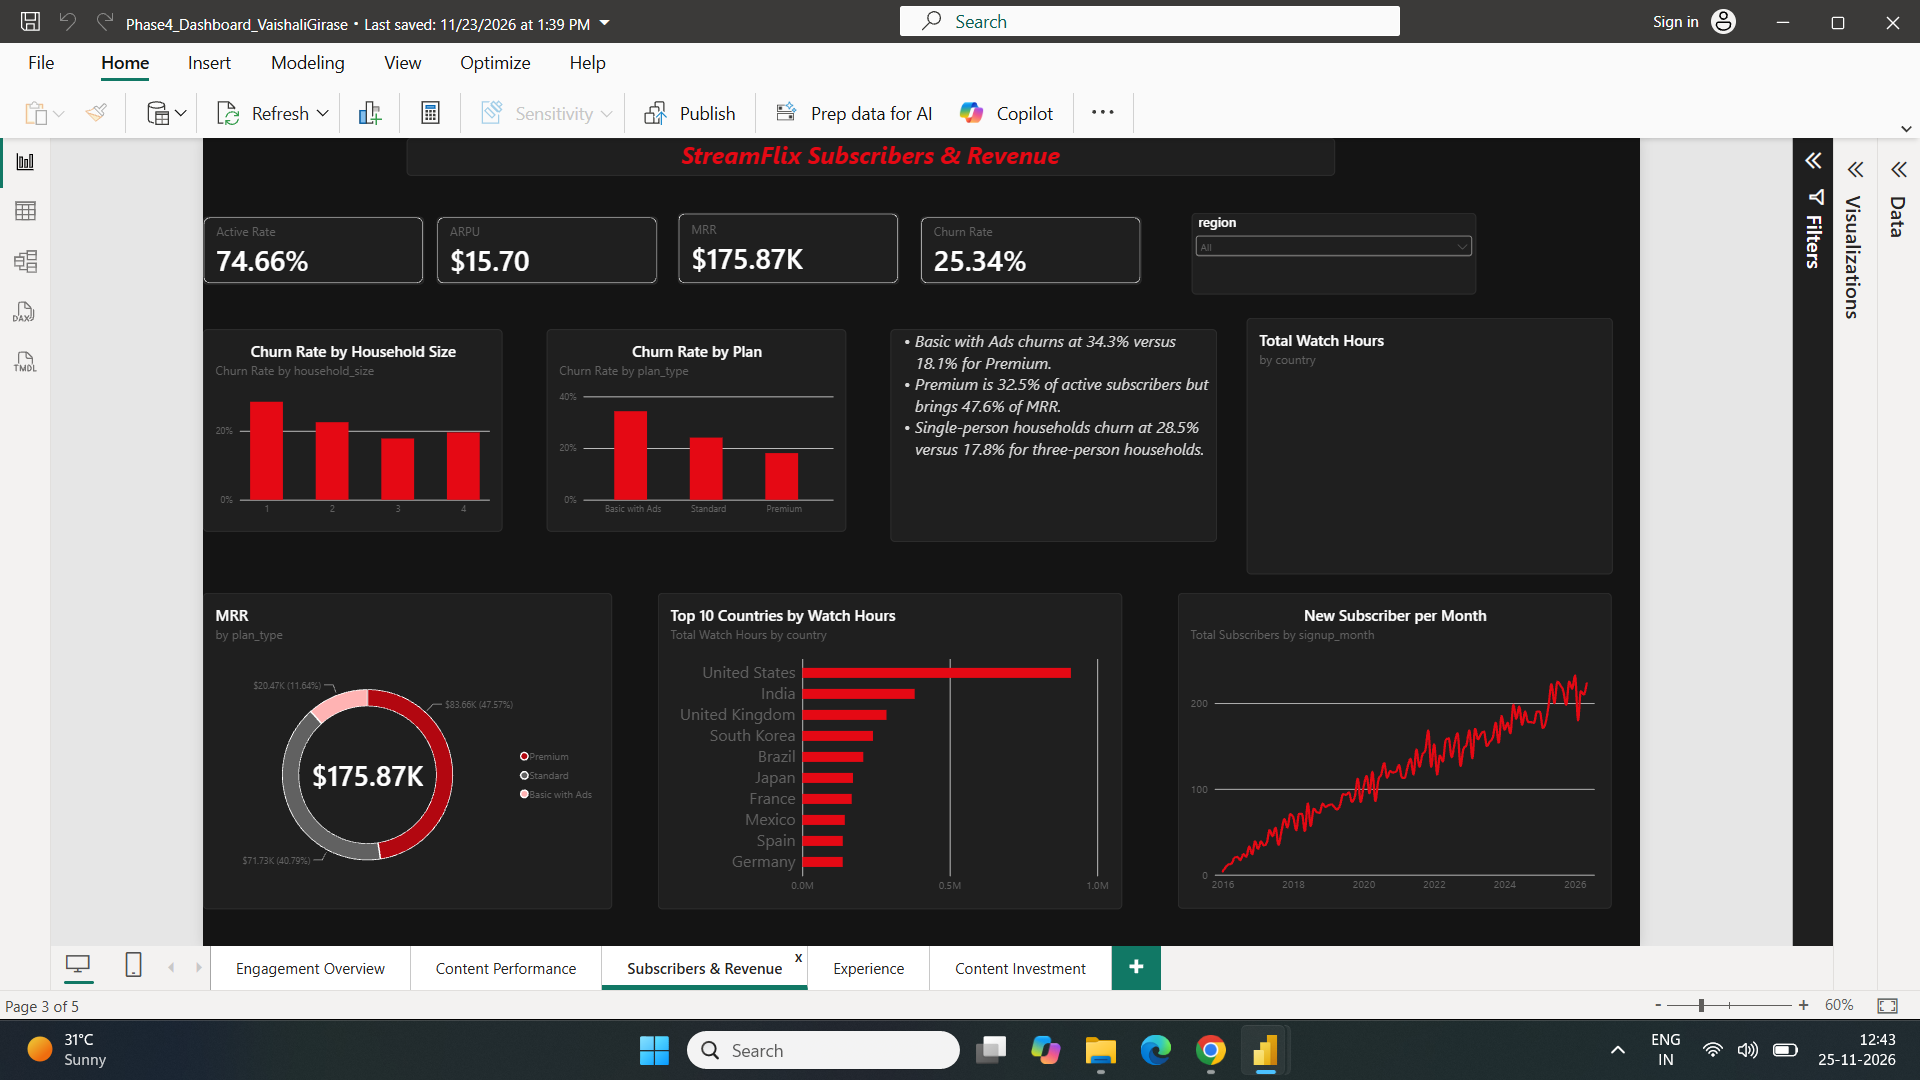

Layout of this report page (visuals, bound fields, positions):
{"tool":"powerbi","page":{"name":"Subscribers & Revenue","canvas":[1920,1080],"ordinal":2},"visuals":[{"type":"cardVisual","fields":{"Data":["fact_watch.Active Rate"]},"box":[0,105,295,90],"z":0},{"type":"cardVisual","fields":{"Data":["fact_watch.Churn Rate"]},"box":[958.8,105,295,90],"z":1000},{"type":"cardVisual","fields":{"Data":["fact_watch.MRR"]},"box":[635,100,295,95],"z":2000},{"type":"cardVisual","fields":{"Data":["fact_watch.ARPU"]},"box":[312.5,105,295,90],"z":3000},{"type":"clusteredColumnChart","title":"Churn Rate by Plan","fields":{"Category":["dim_subscribers.plan_type"],"Y":["fact_watch.Churn Rate"]},"box":[459.7,255.2,400,270],"z":4000},{"type":"donutChart","fields":{"Category":["dim_subscribers.plan_type"],"Y":["fact_watch.MRR"]},"box":[0,608,546,422],"z":5000},{"type":"columnChart","title":"Churn Rate by Household Size","fields":{"Category":["dim_subscribers.household_size"],"Y":["fact_watch.Churn Rate"]},"box":[0,255.2,400,270],"z":6000},{"type":"textbox","box":[272,0,1240,50],"z":7000},{"type":"clusteredBarChart","title":"Top 10 Countries by Watch Hours","fields":{"Category":["dim_subscribers.country"],"Y":["fact_watch.Total Watch Hours"]},"box":[608,608,620,422],"z":8000},{"type":"textbox","box":[918,256,436,284],"z":9000},{"type":"slicer","fields":{"Values":["dim_subscribers.region"]},"box":[1321.1,99.5,380,108.8],"z":10000},{"type":"lineChart","title":"New Subscriber per Month","fields":{"Category":["dim_subscribers.signup_month"],"Y":["fact_watch.Total Subscribers"]},"box":[1303,608,579.1,421.7],"z":11000},{"type":"map","fields":{"Category":["dim_subscribers.country"],"Size":["fact_watch.Total Watch Hours"]},"box":[1393.4,240.7,488.6,342],"z":12000}]}

Visuals, with their boxes on the page's 1920x1080 design canvas (x1, y1, x2, y2). These are canvas units, not pixel positions in the 1920x1080 screenshot, which may show the page scaled, cropped or inside an application window:
cardVisual - fact_watch.Active Rate: 0,105,295,195
cardVisual - fact_watch.Churn Rate: 959,105,1254,195
cardVisual - fact_watch.MRR: 635,100,930,195
cardVisual - fact_watch.ARPU: 312,105,608,195
"Churn Rate by Plan" clusteredColumnChart: 460,255,860,525
donutChart - dim_subscribers.plan_type x fact_watch.MRR: 0,608,546,1030
"Churn Rate by Household Size" columnChart: 0,255,400,525
textbox: 272,0,1512,50
"Top 10 Countries by Watch Hours" clusteredBarChart: 608,608,1228,1030
textbox: 918,256,1354,540
slicer - dim_subscribers.region: 1321,100,1701,208
"New Subscriber per Month" lineChart: 1303,608,1882,1030
map - dim_subscribers.country x fact_watch.Total Watch Hours: 1393,241,1882,583
